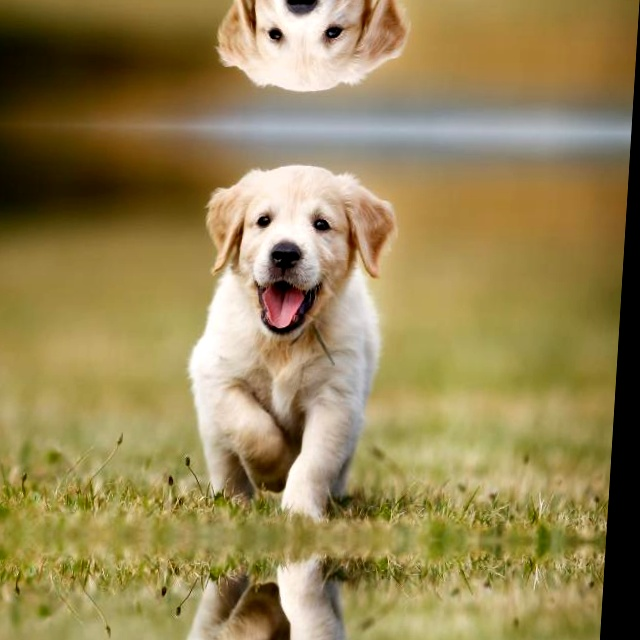dog: (174, 151, 416, 529), (201, 0, 428, 105), (164, 547, 392, 640)
